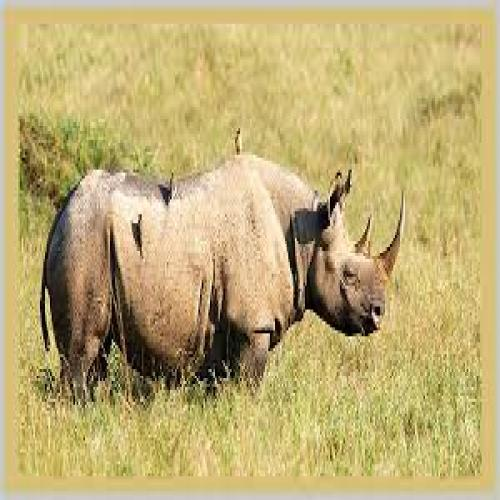rhino-endangered: (38, 129, 406, 399)
